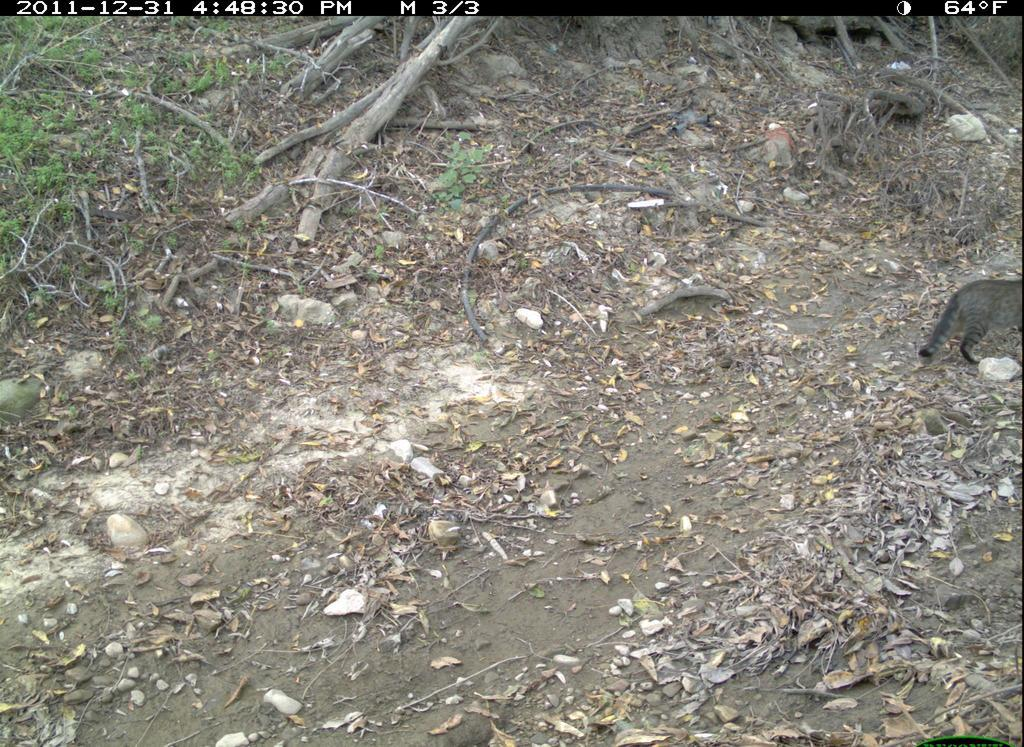cat: (917, 268, 1024, 376)
